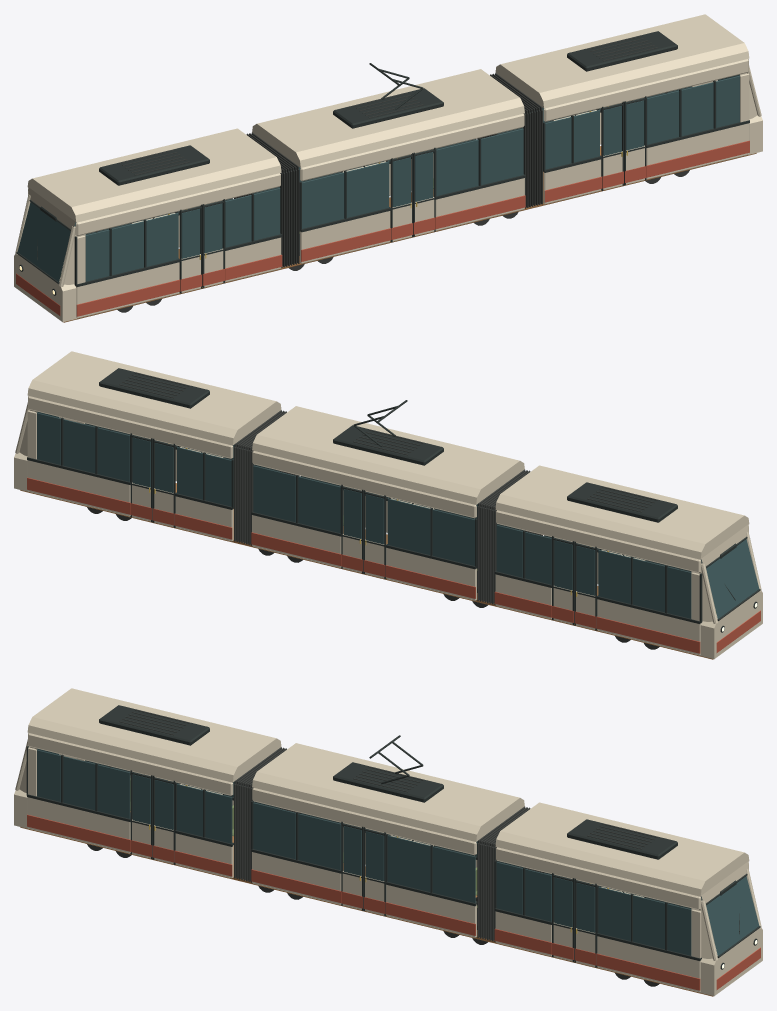
Rendered from tram.glb.
The picture shows the model from 3 angles, top to bottom: view 1: azimuth 30°, elevation 25°; view 2: azimuth 150°, elevation 25°; view 3: azimuth 330°, elevation 25°; orthographic projection.
Visible parts, largest first — view 1: body, roof, door_right_1_aft, door_right_2_aft, door_right_0_fore, door_right_2_fore, door_right_1_fore, door_right_0_aft, interior; view 2: body, roof, door_left_1_aft, door_left_2_aft, door_left_0_fore, door_left_2_fore, door_left_1_fore, door_left_0_aft, interior; view 3: body, roof, door_right_0_fore, door_right_1_fore, door_right_2_aft, door_right_0_aft, door_right_1_aft, door_right_2_fore, interior.
Part boxes in pixels (<box>): body: <box>14,59,762,322</box>; roof: <box>27,14,749,222</box>; door_right_1_aft: <box>390,153,413,242</box>; door_right_2_aft: <box>179,204,202,293</box>; door_right_0_fore: <box>624,96,646,185</box>; door_right_2_fore: <box>202,199,224,288</box>; door_right_1_fore: <box>413,147,435,236</box>; door_right_0_aft: <box>601,101,623,190</box>; interior: <box>60,106,756,322</box>; body: <box>14,396,762,659</box>; roof: <box>27,351,749,559</box>; door_left_1_aft: <box>363,490,386,579</box>; door_left_2_aft: <box>574,541,597,630</box>; door_left_0_fore: <box>130,433,152,522</box>; door_left_2_fore: <box>552,536,574,625</box>; door_left_1_fore: <box>341,484,363,573</box>; door_left_0_aft: <box>153,438,175,527</box>; interior: <box>20,443,716,659</box>; body: <box>14,733,762,996</box>; roof: <box>27,688,749,896</box>; door_right_0_fore: <box>574,878,597,967</box>; door_right_1_fore: <box>363,827,386,916</box>; door_right_2_aft: <box>130,770,152,859</box>; door_right_0_aft: <box>552,873,574,962</box>; door_right_1_aft: <box>341,821,363,910</box>; door_right_2_fore: <box>153,775,175,864</box>; interior: <box>20,778,713,996</box>.
Size of the model in its own units: 20.5 by 4.47 by 2.59.
